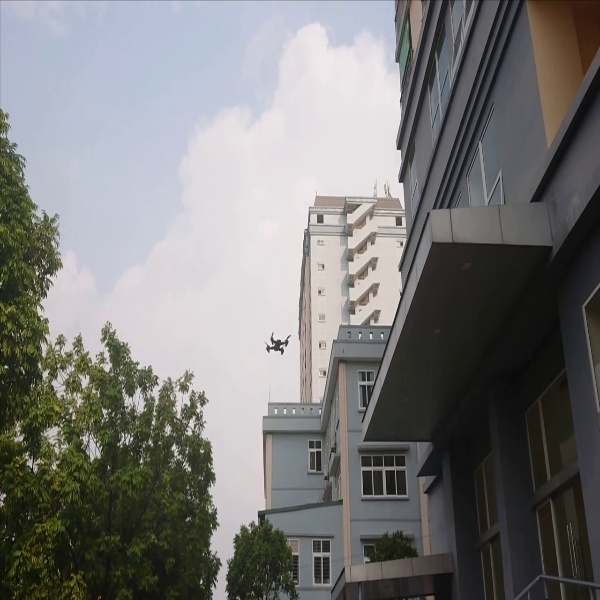drone: (255, 325, 296, 362)
